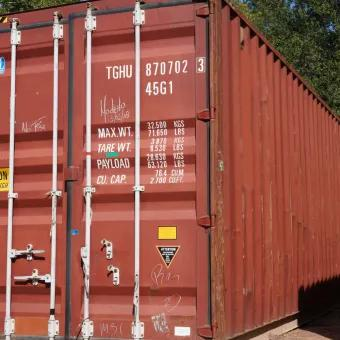ContainerNum: (104, 55, 207, 97)
